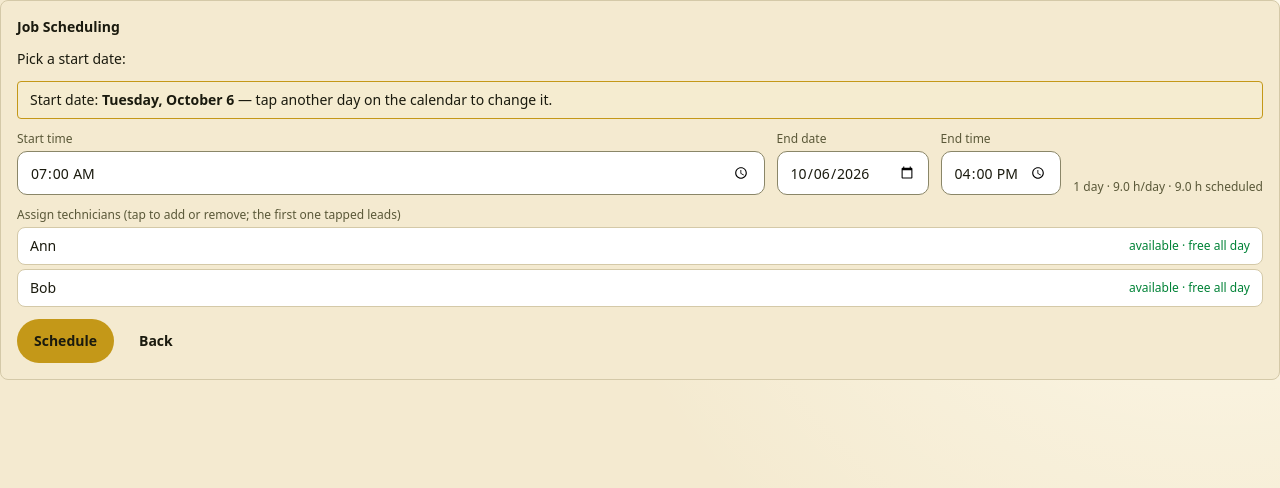
Test: Booking with a crew › the first tech tapped is the Lead, the next is a Helper, and Make lead switches them
Click the button "Ann available · free all day".
click(1190, 246)  # box [17, 227, 1263, 265]
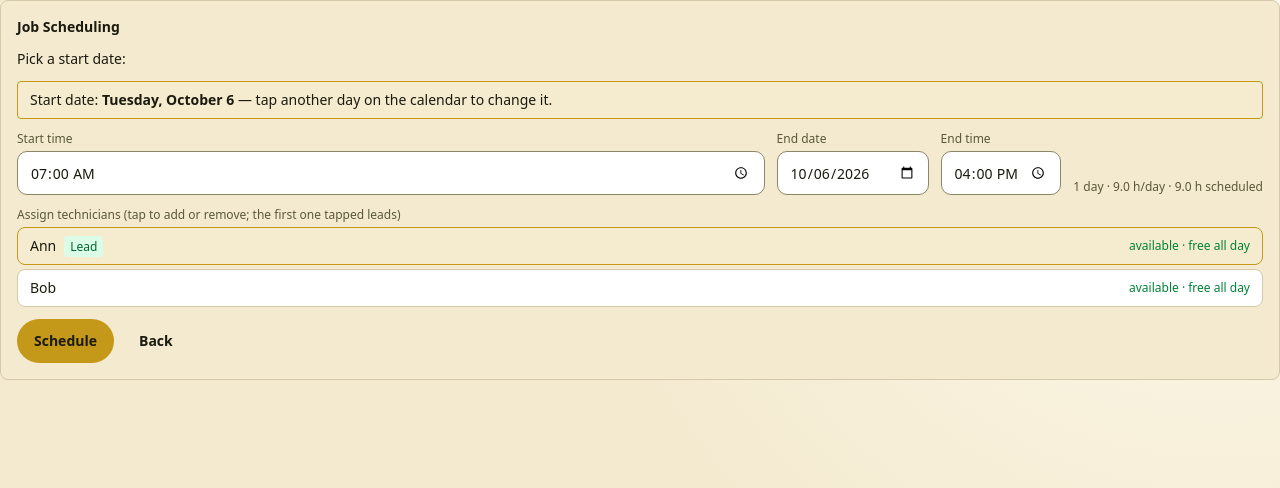
Click the button "Bob available · free all day".
click(1190, 288)  # box [17, 269, 1263, 307]
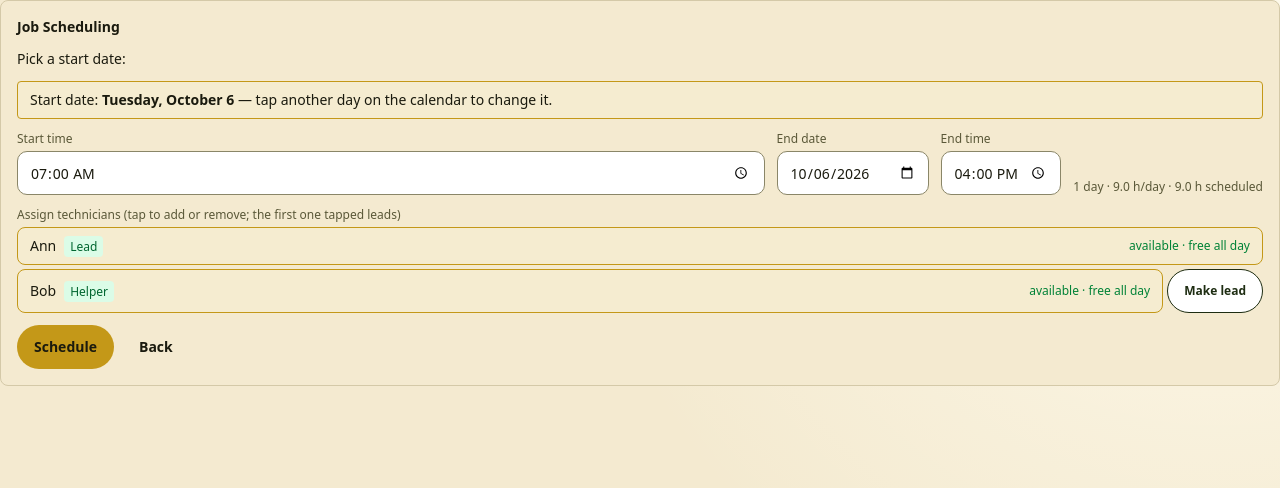
Expected: the button that starts with "Ann" is pressed, [17, 227, 1263, 265]
Expected: the button that starts with "Bob" is pressed, [17, 269, 1163, 313]
Only the helper has a Make lead button.
Click the button "Make lead".
click(1215, 291)  # box [1167, 269, 1263, 313]
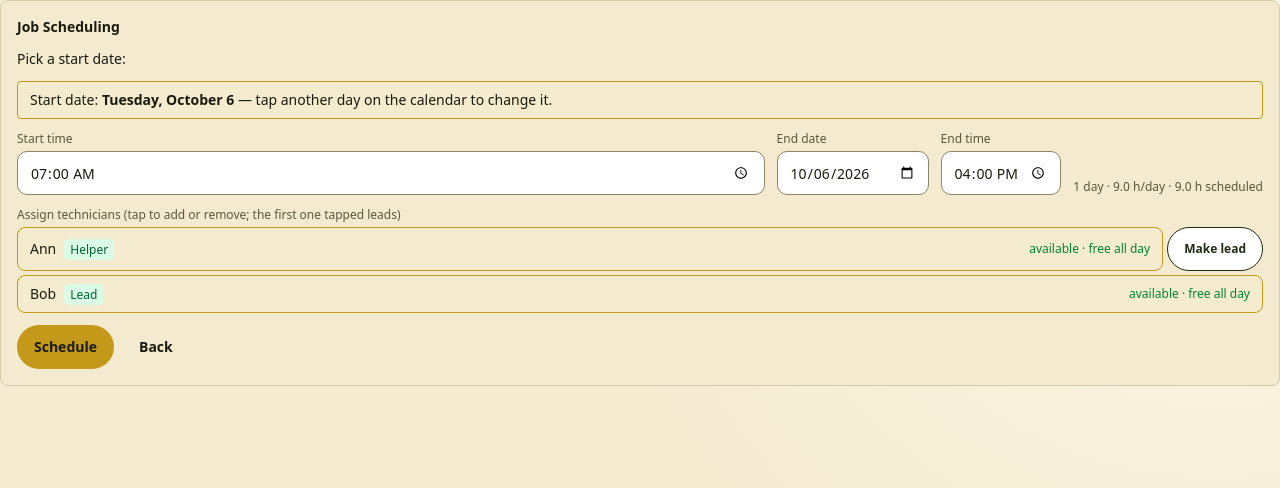
Expected: the button that starts with "Bob" is shown, [17, 275, 1263, 313]
Expected: the button that starts with "Ann" is shown, [17, 227, 1163, 271]
